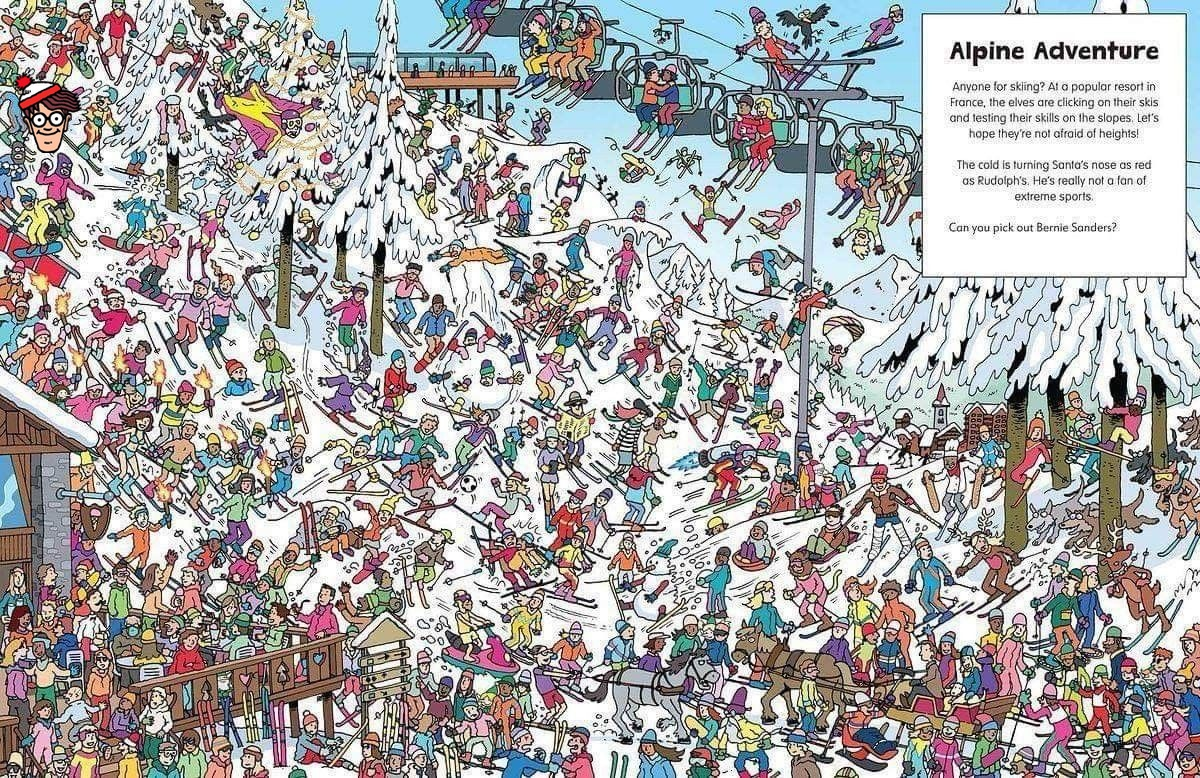waldo: (14, 72, 82, 153)
